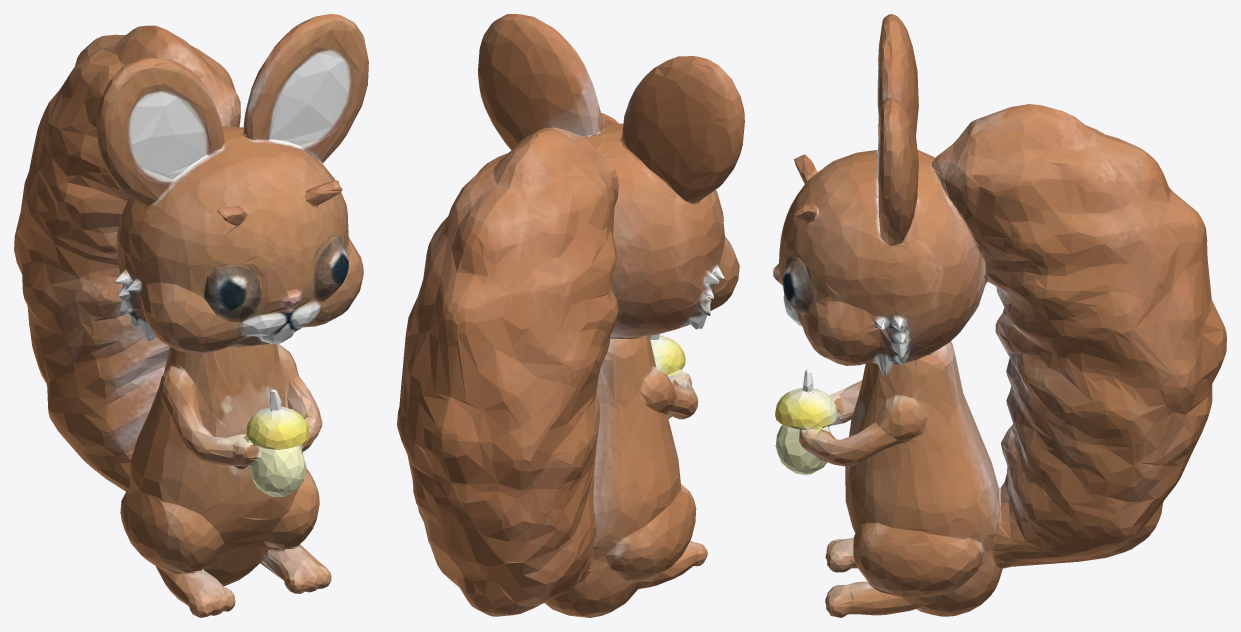
Rendered from creature-010.lod.glb.
3 views of the same model, side by side, from view 1: azimuth 30°, elevation 25°; view 2: azimuth 150°, elevation 25°; view 3: azimuth 270°, elevation 25° (orthographic). The views are drawn at different scales.
Visible parts, largest first — view 1: tmpbz_c9xf9.ply; view 2: tmpbz_c9xf9.ply; view 3: tmpbz_c9xf9.ply.
Part boxes in pixels (<box>): tmpbz_c9xf9.ply: <box>14,14,368,617</box>; tmpbz_c9xf9.ply: <box>397,14,744,617</box>; tmpbz_c9xf9.ply: <box>773,14,1226,617</box>.
Size of the model in its own units: 0.9887 by 1.99 by 1.49.
Materials: 1 (1 with a texture image).
